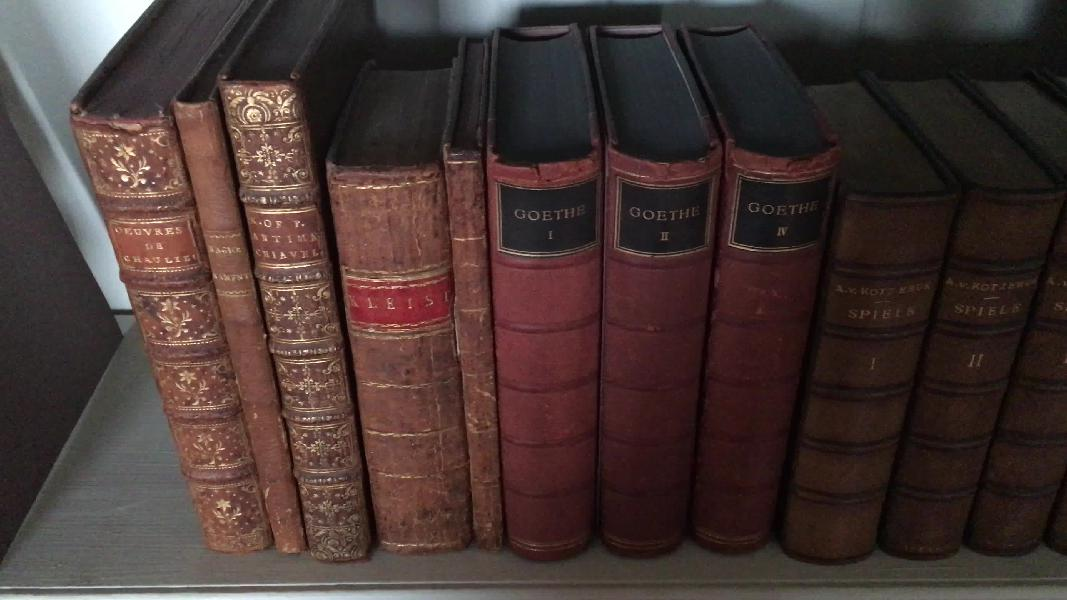Aa6-10: (435, 140, 512, 543)
Aa6-11_13: (485, 140, 801, 558)
Aa6-14_17: (761, 177, 1067, 566)
Aa6-6: (66, 114, 267, 566)
Aa6-7: (172, 102, 308, 562)
Aa6-8: (220, 71, 378, 559)
Aa6-9: (316, 144, 489, 558)
